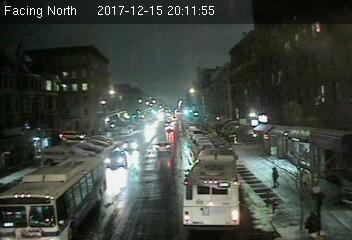bus: (1, 154, 108, 240), (181, 147, 241, 230)
car: (104, 149, 127, 166), (154, 139, 172, 152)
pedestrian: (271, 166, 280, 189)
